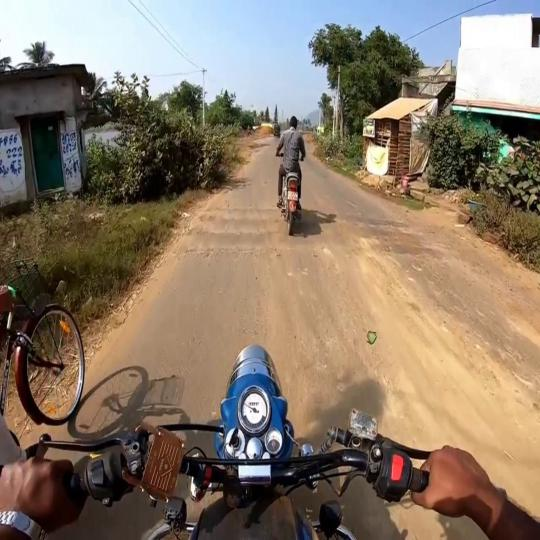Speed Bump: (178, 230, 446, 252), (302, 210, 408, 228), (299, 221, 418, 235), (191, 217, 283, 230), (195, 205, 279, 218)
